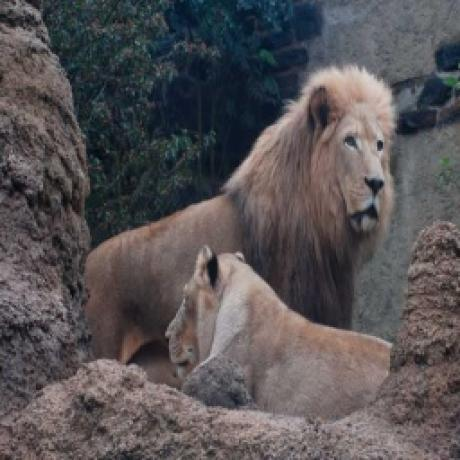Lion: (82, 60, 398, 347), (164, 244, 397, 422)
